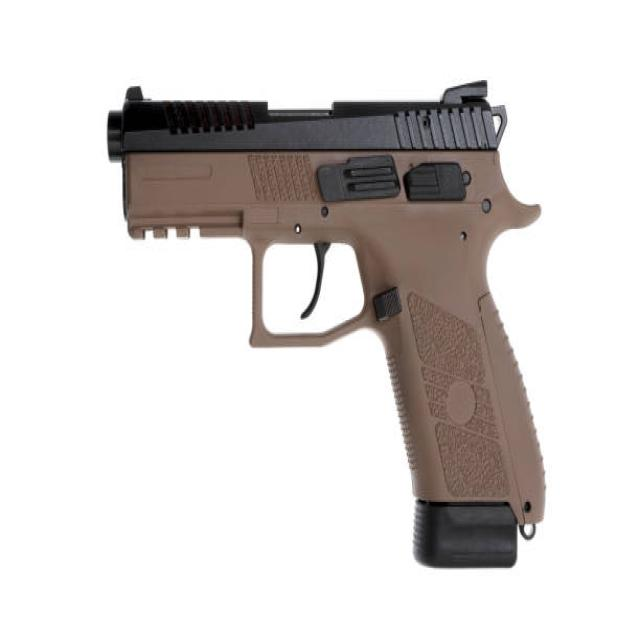pistol: (98, 73, 555, 574)
